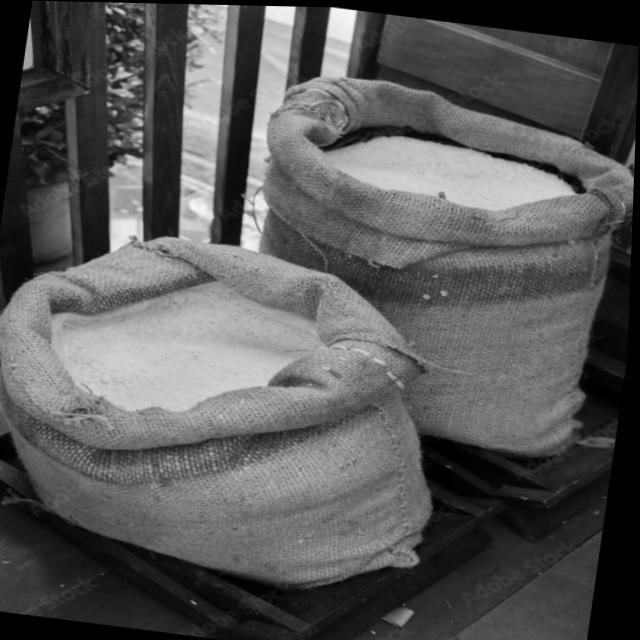sack: (0, 215, 469, 602), (227, 63, 638, 461)
